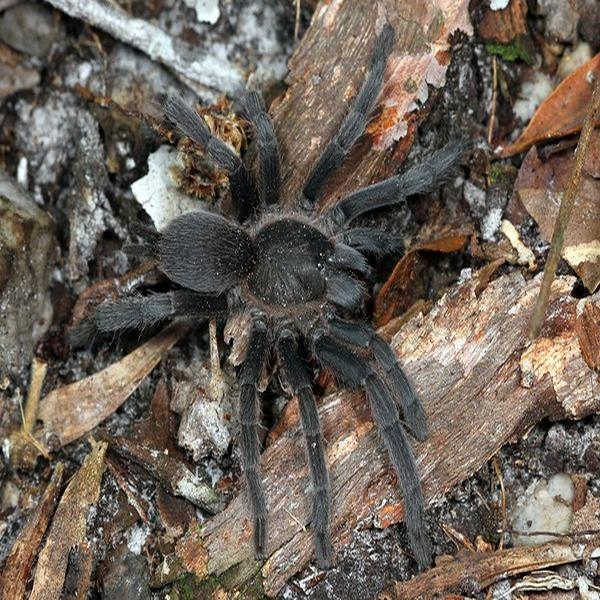Tarantula Spider: (86, 46, 471, 560)
